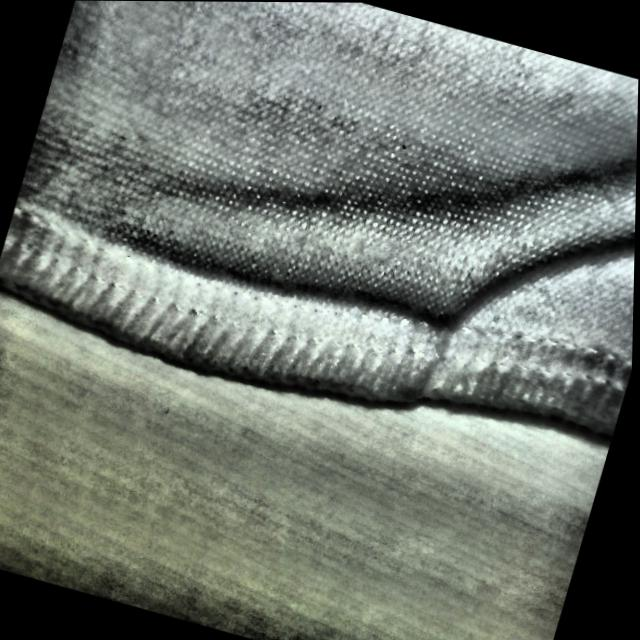seam: (264, 143, 581, 447)
